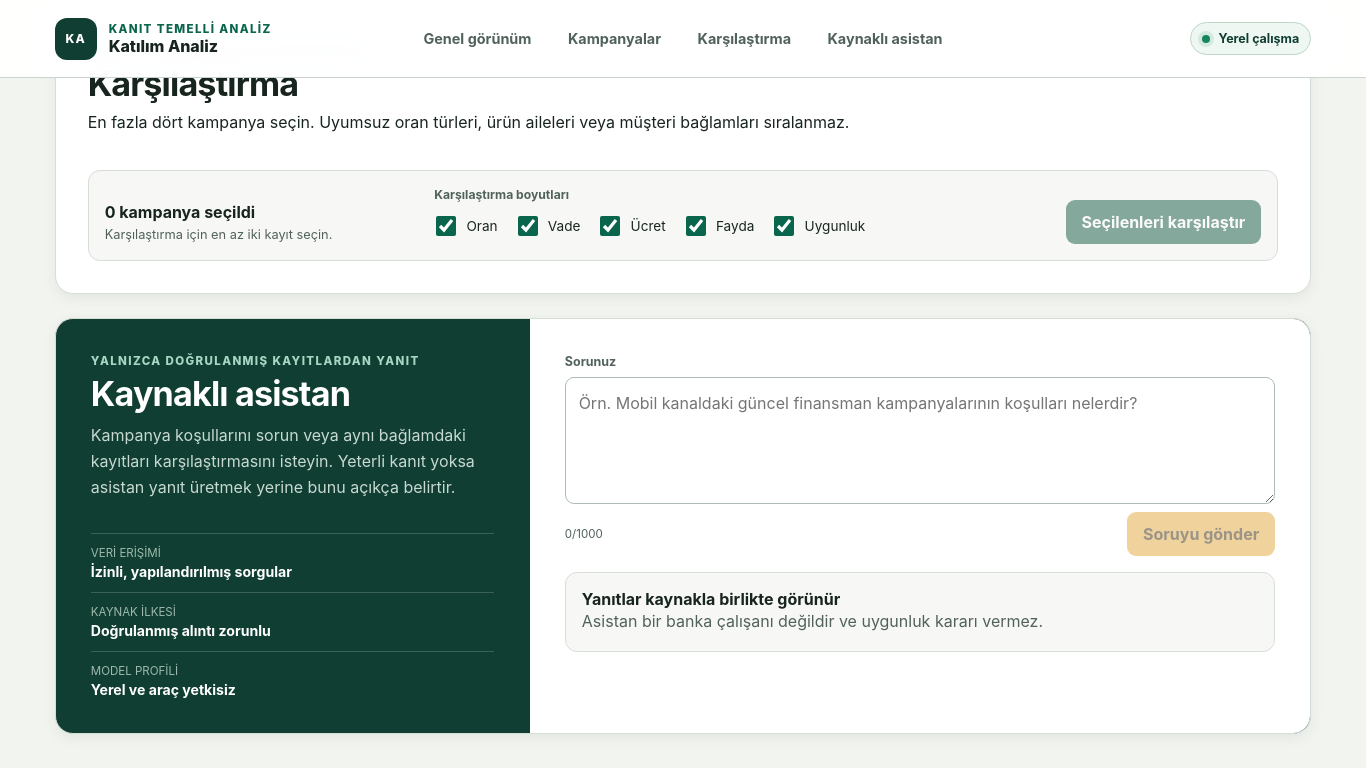
Test: V1 dashboard › renders an explicit grounded-chat abstention
(page scrolled)
Replace the text in the text box labelled "Sorunuz" with "Test kampanyasında bilinmeyen koşul nedir?" at (920, 441), box [565,378,1275,504]
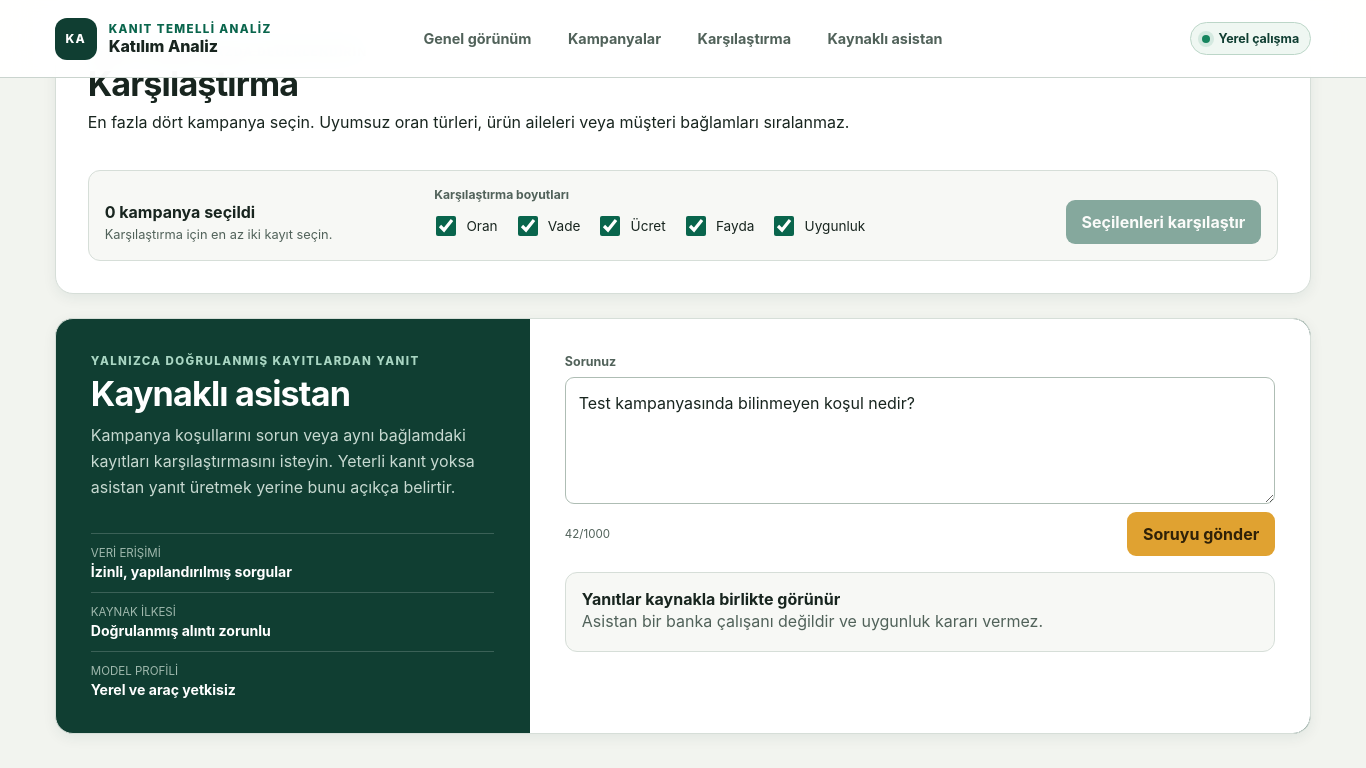
Click the button "Soruyu gönder" at (1201, 534), box [1127,512,1275,556]
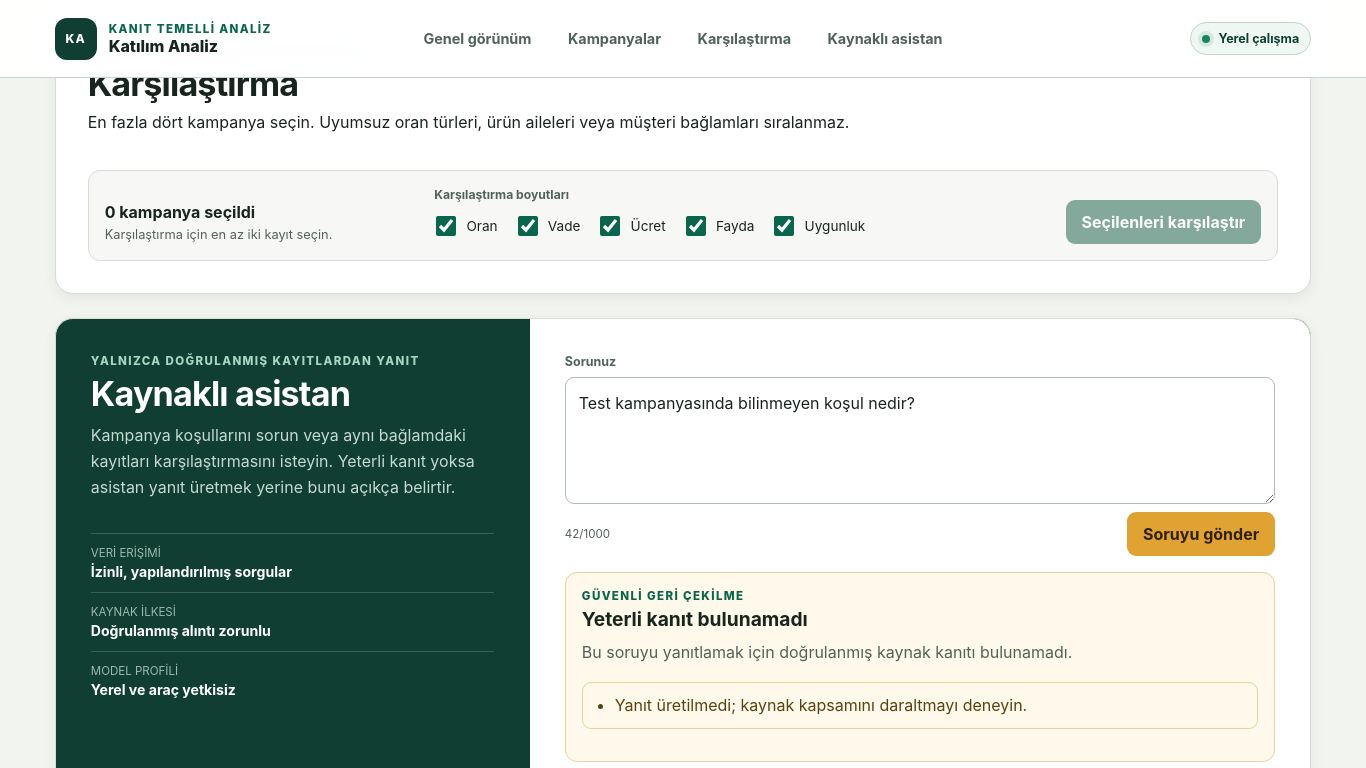
Expected: the heading "Yeterli kanıt bulunamadı" is shown, [582,607,808,631]
Expected: the text "Bu soruyu yanıtlamak için doğrulanmış kaynak kanıtı bulunamadı." is shown, [582,642,1072,662]
